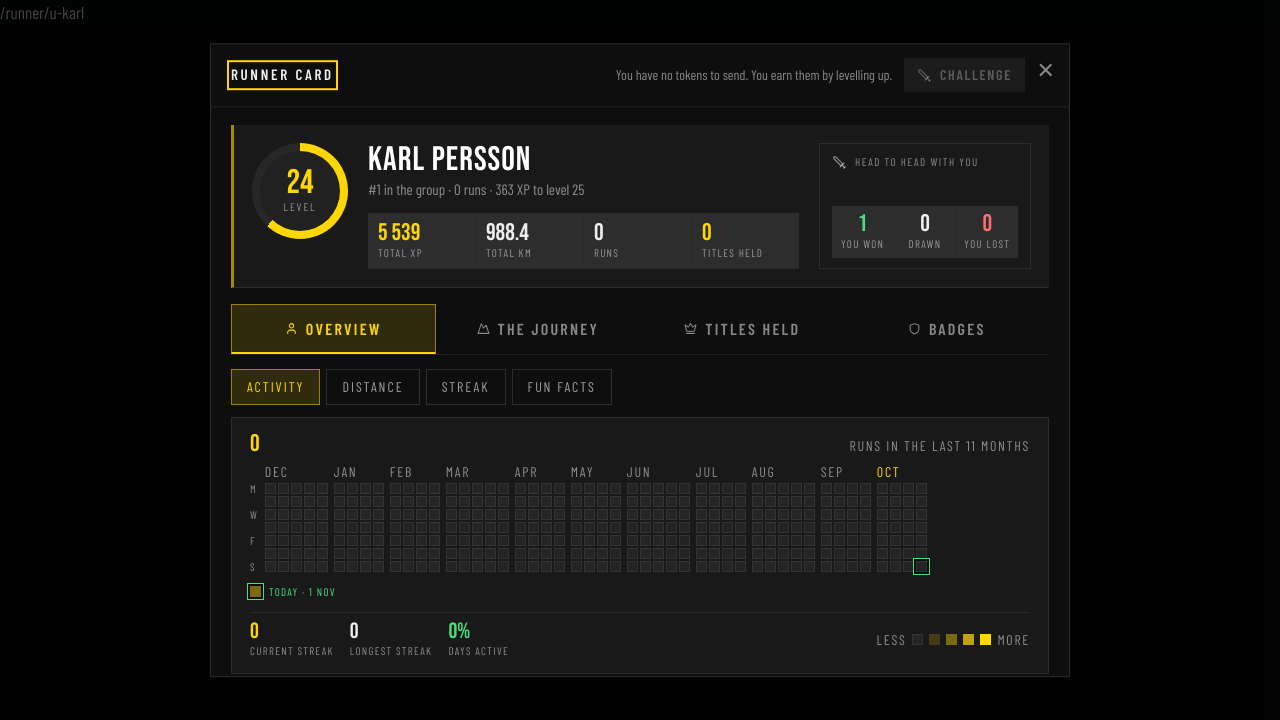
Test: the Journey tab › shows the same numbers as the profile and the banner for the same total_km
Expected: the heading "Karl Persson" is shown, [368,144,531,178]
Click the tab "The Journey": click(538, 329) [436,304,640,354]
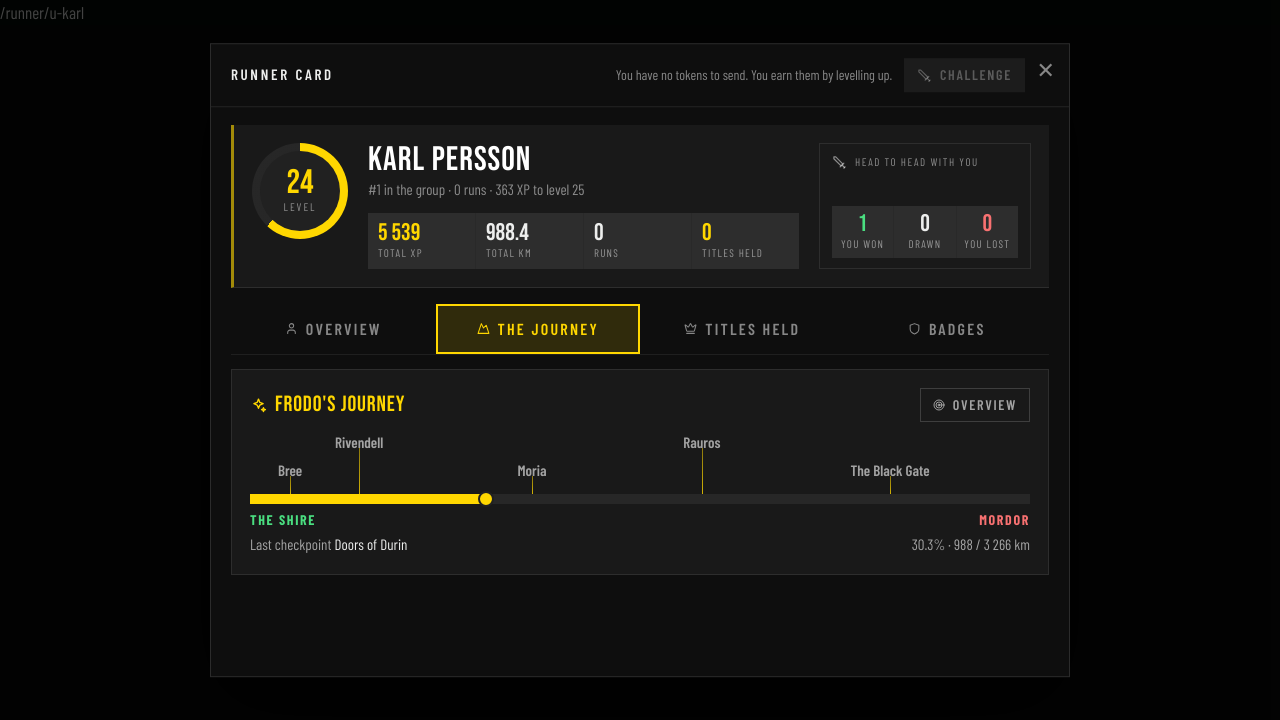
Expected: the text "988.4" is shown, [486,218,529,247]
Result: the element showing "Last checkpoint Doors of Durin" is shown at [250,535,408,556]
